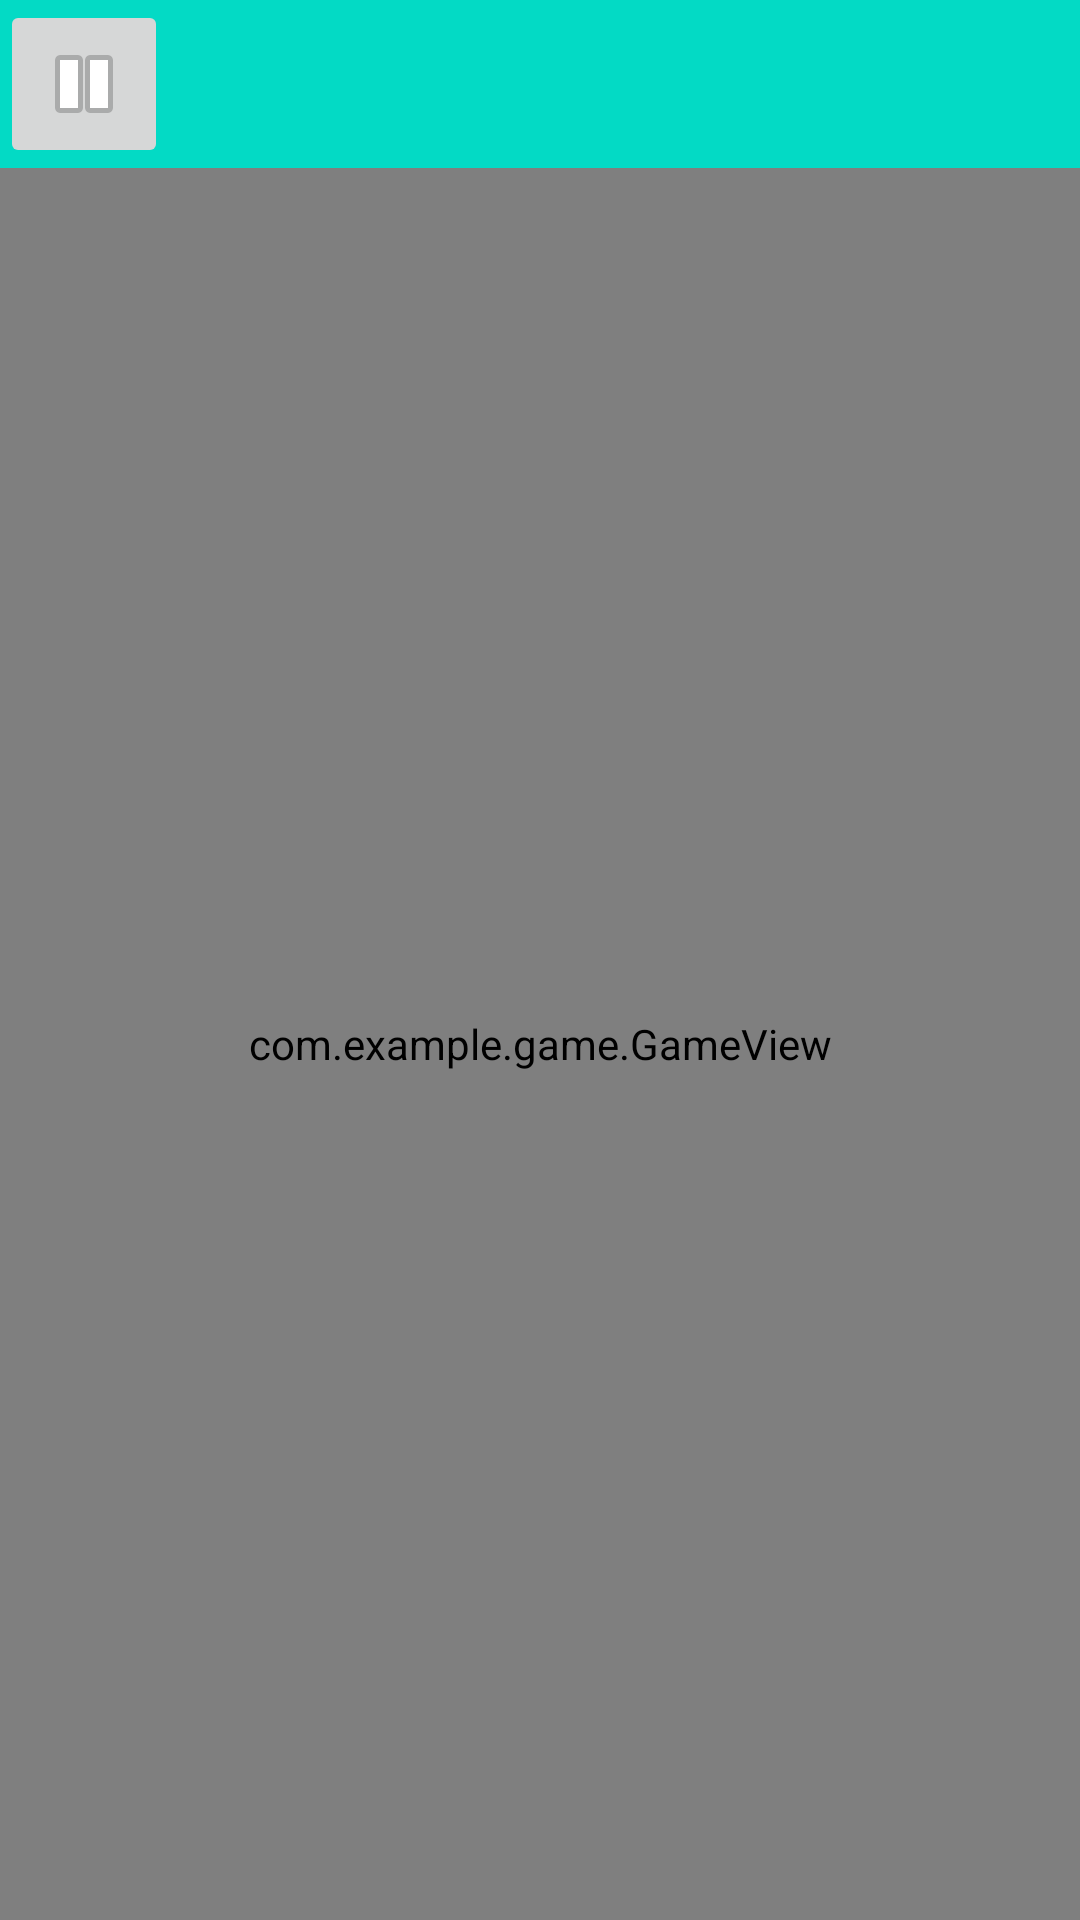

Where to tap for icons on this 1080×1920 app screen, as point (x, y):
press to pause game: point (84, 84)
